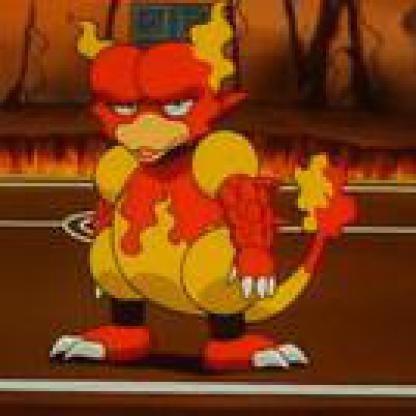Magmar: (23, 4, 414, 414)
